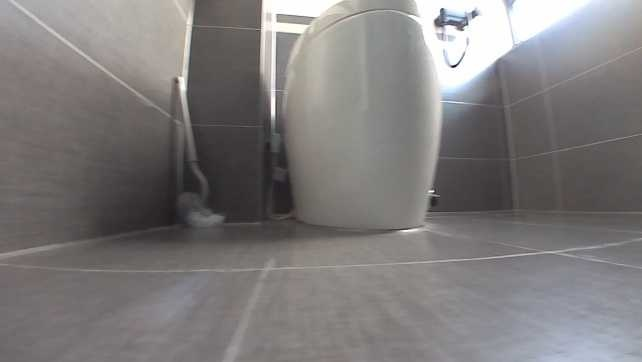toilet: (279, 0, 442, 236)
